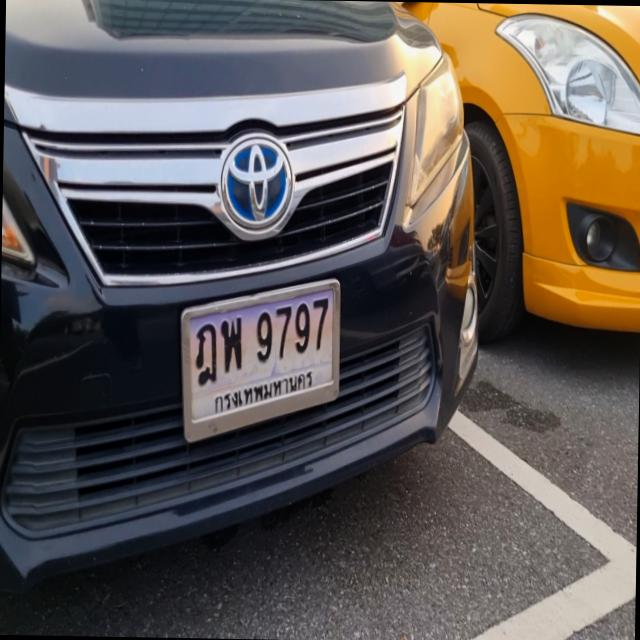license_plate: (174, 272, 343, 453)
